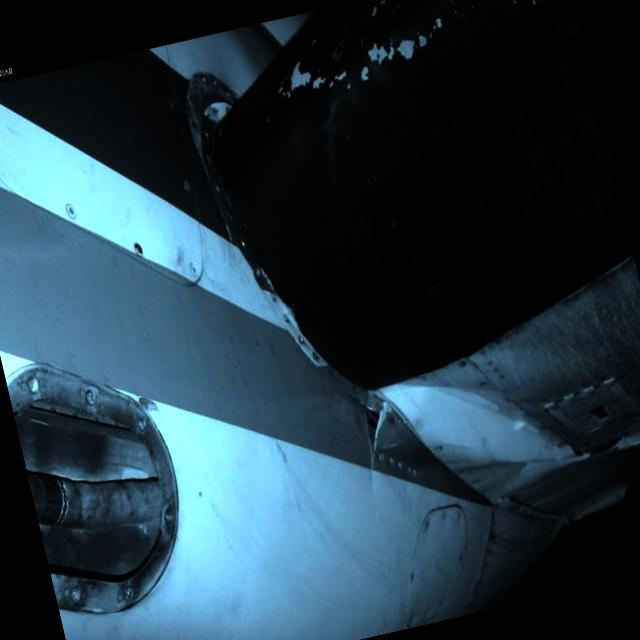crack: (354, 401, 400, 462)
